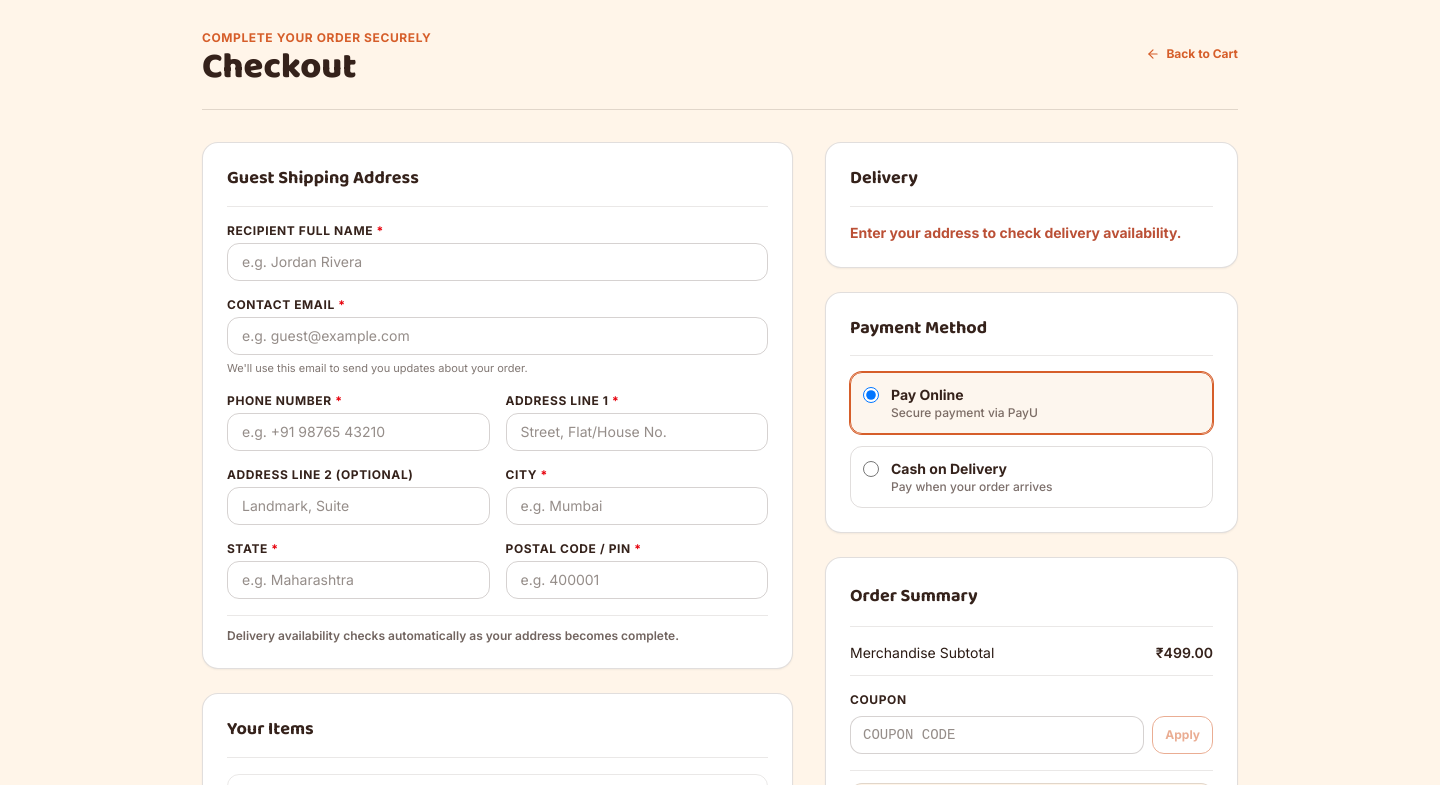
Test: Stage 2 consolidated checkout › Pay Online below ₹1.00: no 'Pay ₹0.00' CTA, Place Order disabled, COD guidance shown, COD still works
Check: the heading "Guest Shipping Address" is shown, box [227,167,419,190]
In the field labelled "Recipient Full Name *": (498, 262) [227,243,768,281], type "Guest User"
In the field labelled "Phone Number *": (358, 432) [227,413,490,451], type "+91 98765 00000"
In the field labelled "Address Line 1 *": (637, 432) [506,413,768,451], type "123 Street"
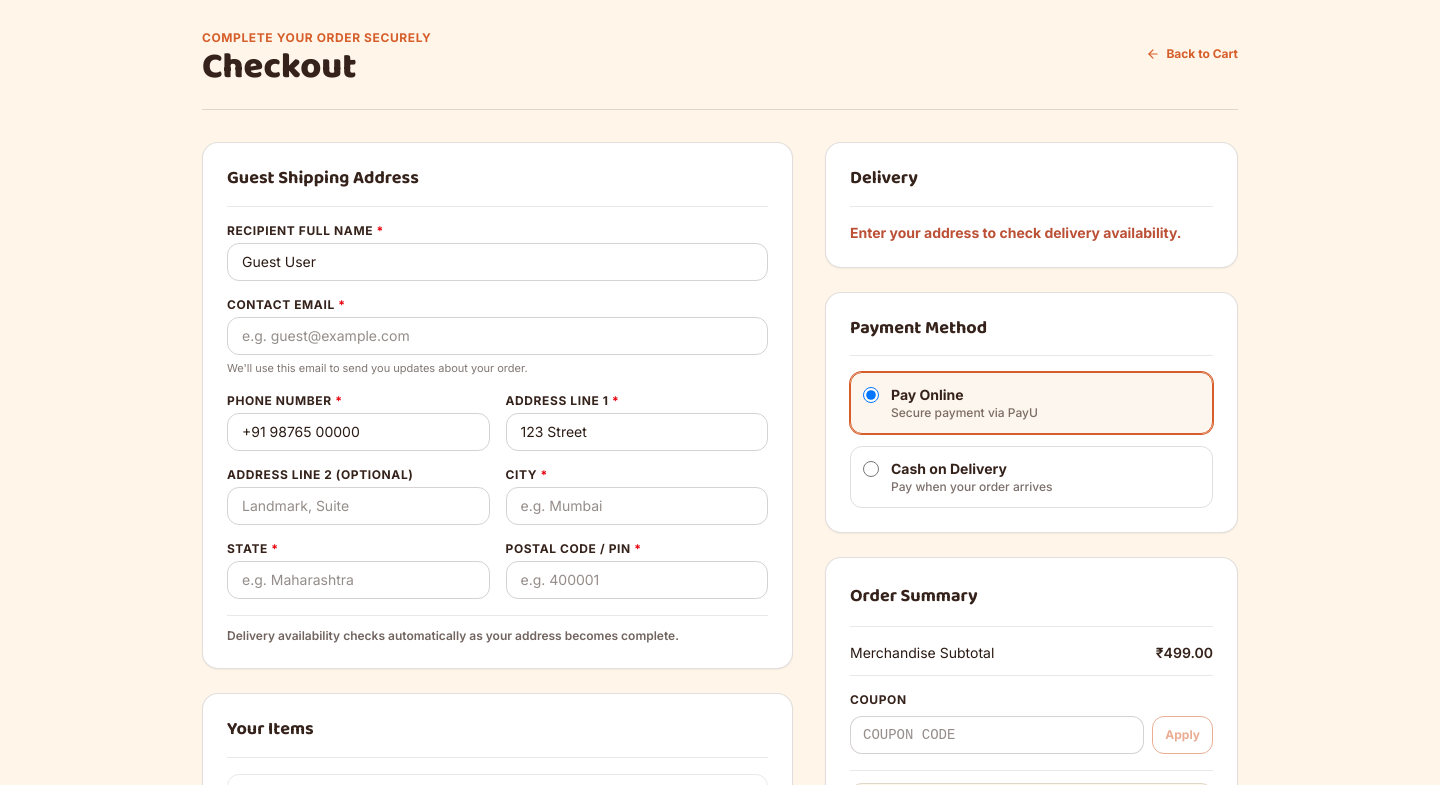
In the field labelled "City *": (637, 506) [506,487,768,525], type "Mumbai"
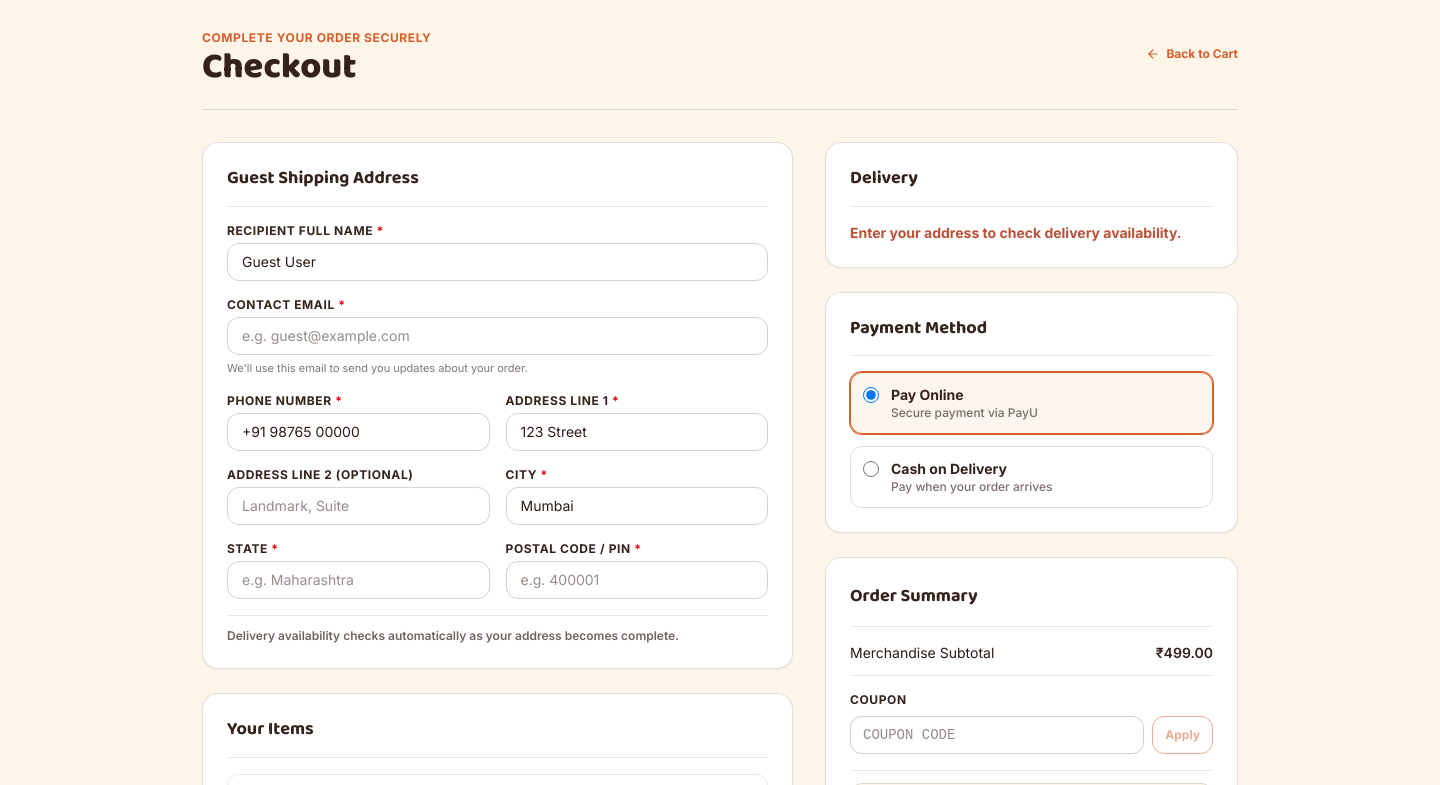
In the field labelled "State *": (358, 580) [227,561,490,599], type "Maharashtra"
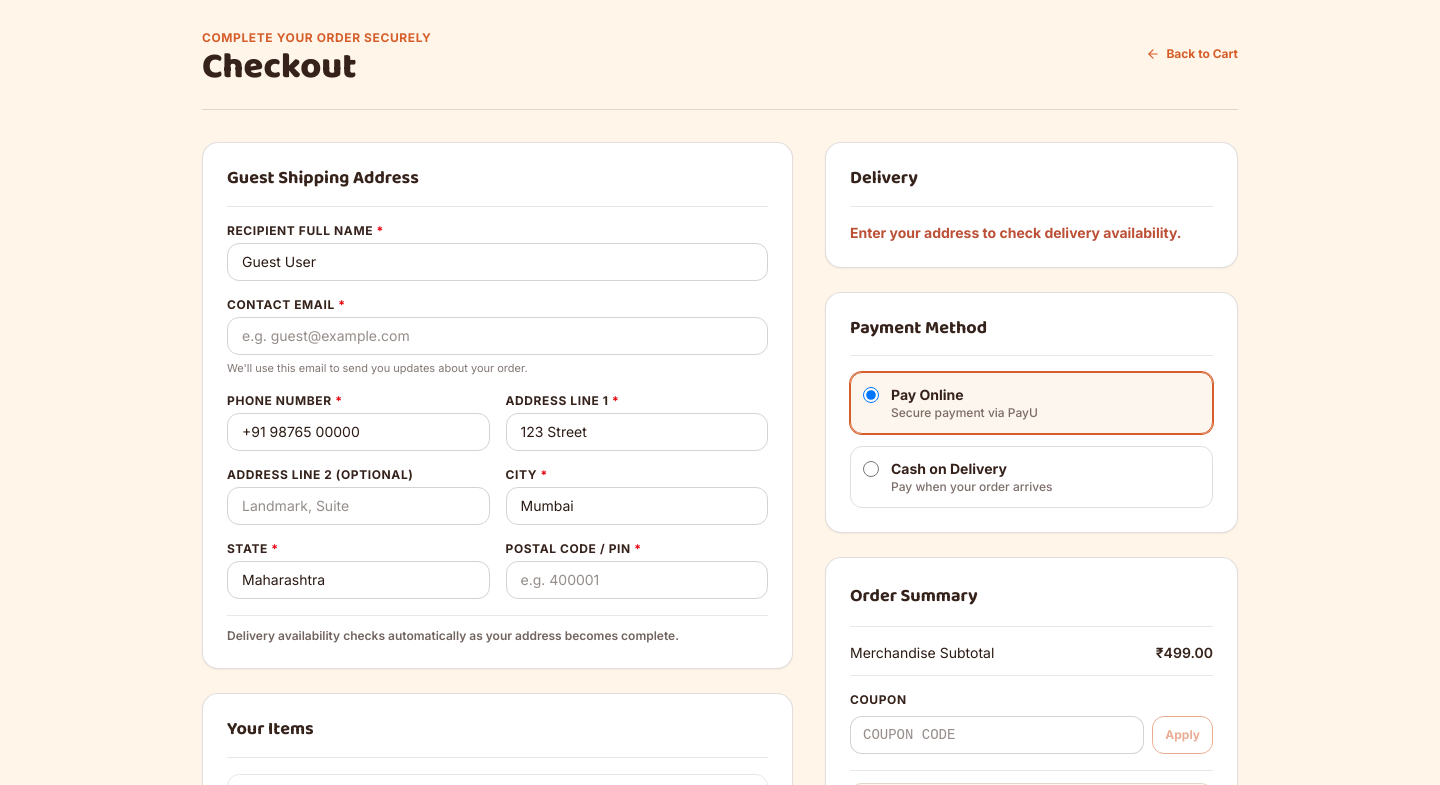
In the field labelled "Postal Code / PIN *": (637, 580) [506,561,768,599], type "400001"
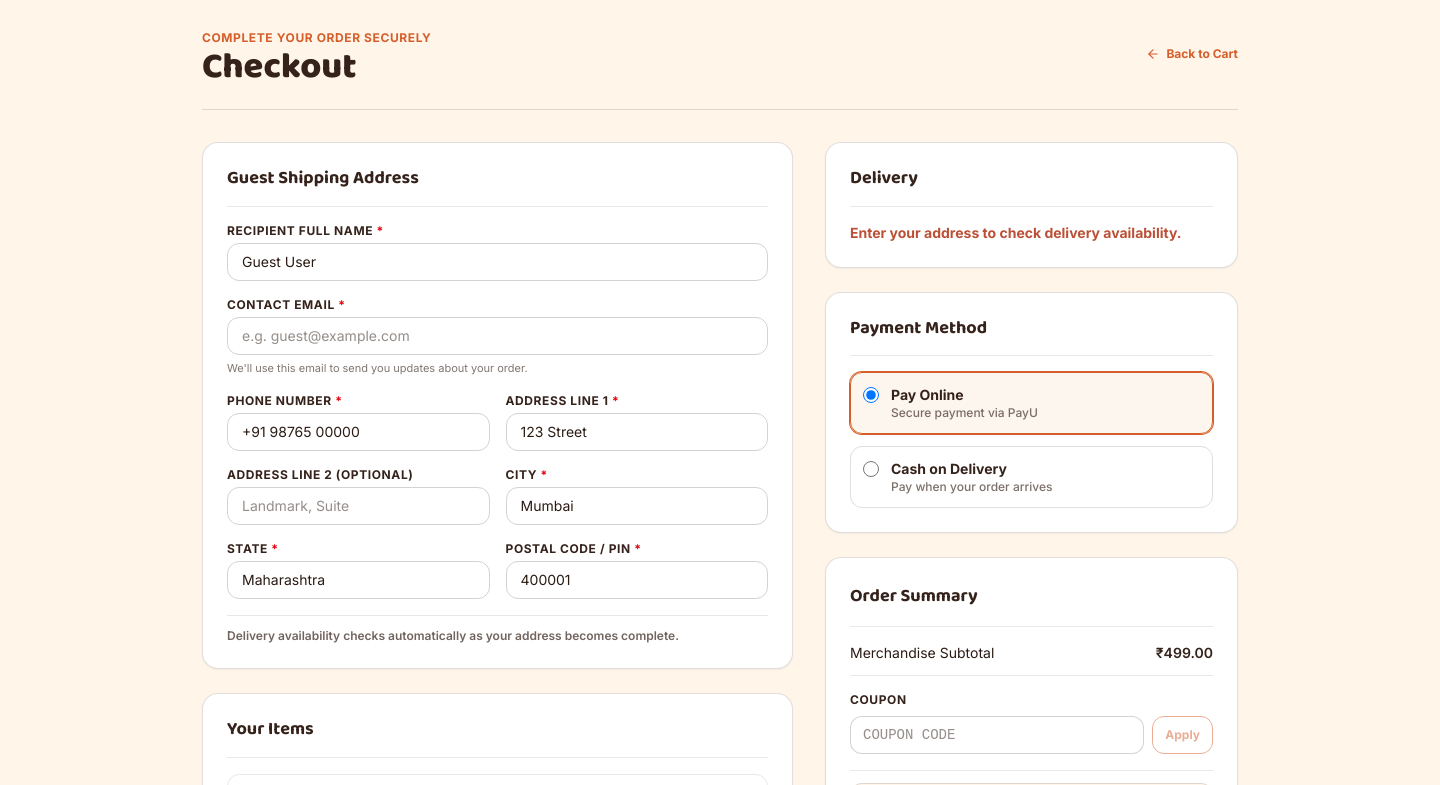
In the field labelled "Contact Email *": (498, 336) [227,317,768,355], type "guest@example.com"
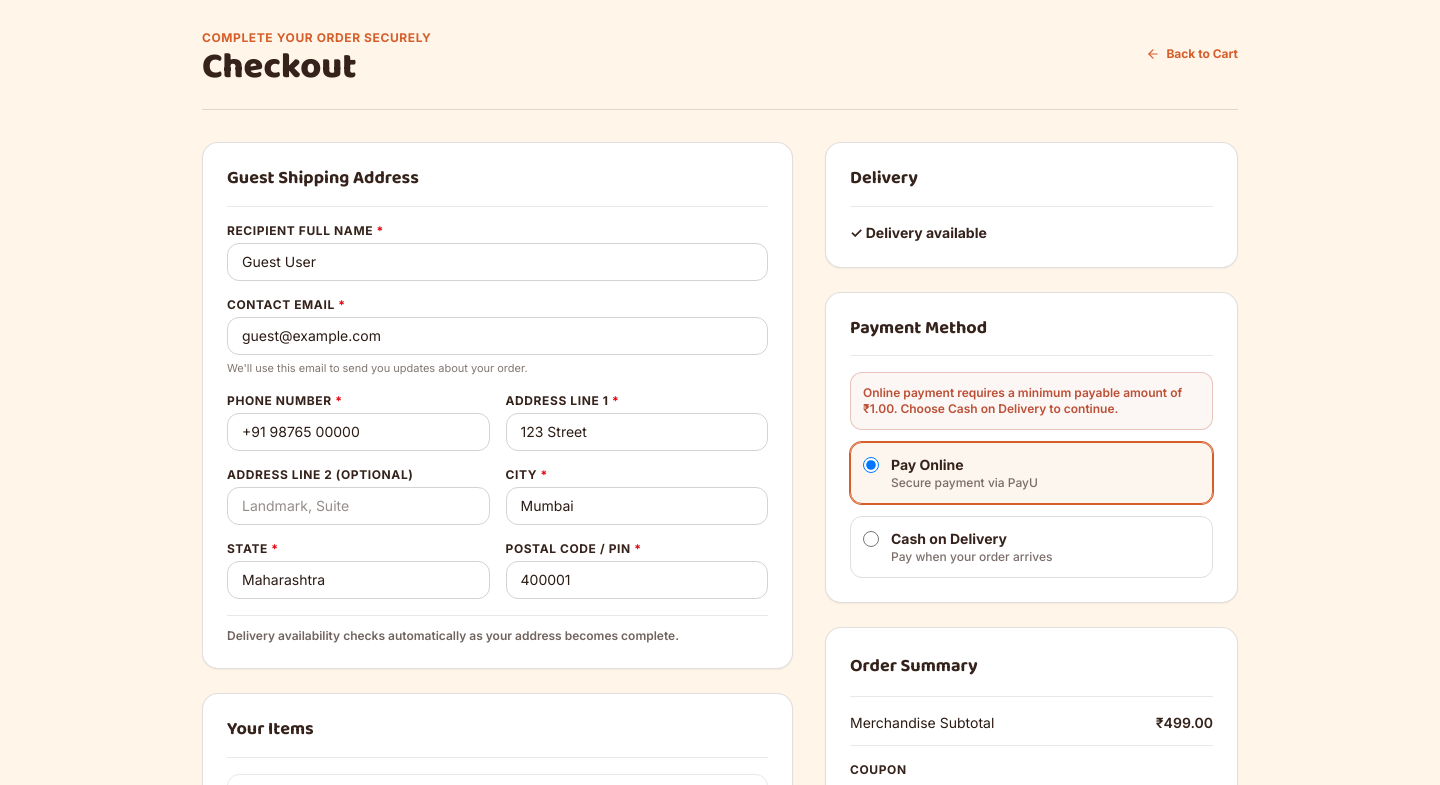
Check: the text "Online payment requires a minimum payable amount of ₹1.00. Choose Cash on Delivery to continue." is shown, box [850,372,1213,430]
Click the radio button labelled "Cash on Delivery Pay when your order arrives": (871, 539) [863,531,879,547]
(page scrolled)
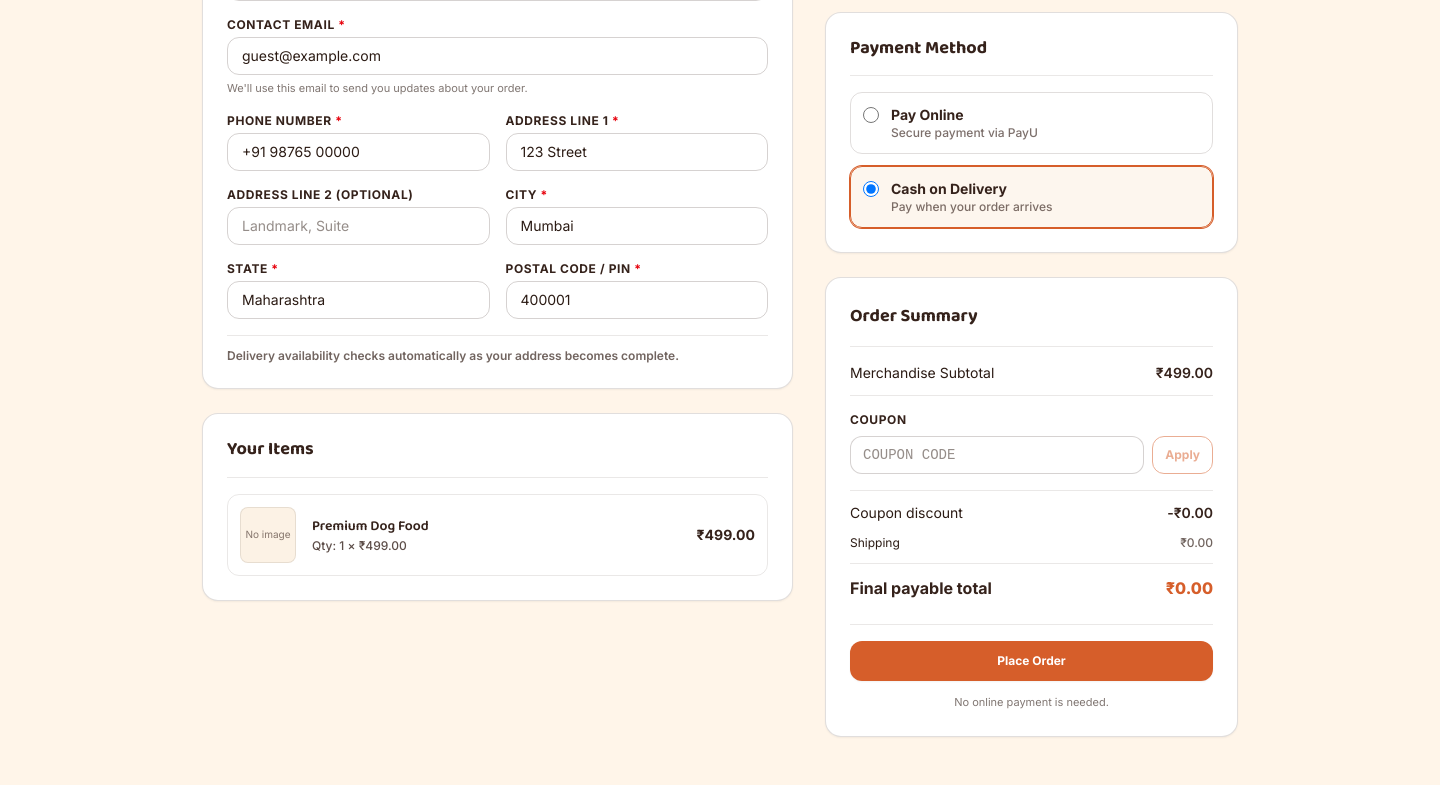
Check: the button "Place Order" is enabled, box [850,641,1213,681]
Check: the text "Online payment requires a minimum payable amount" is gone
